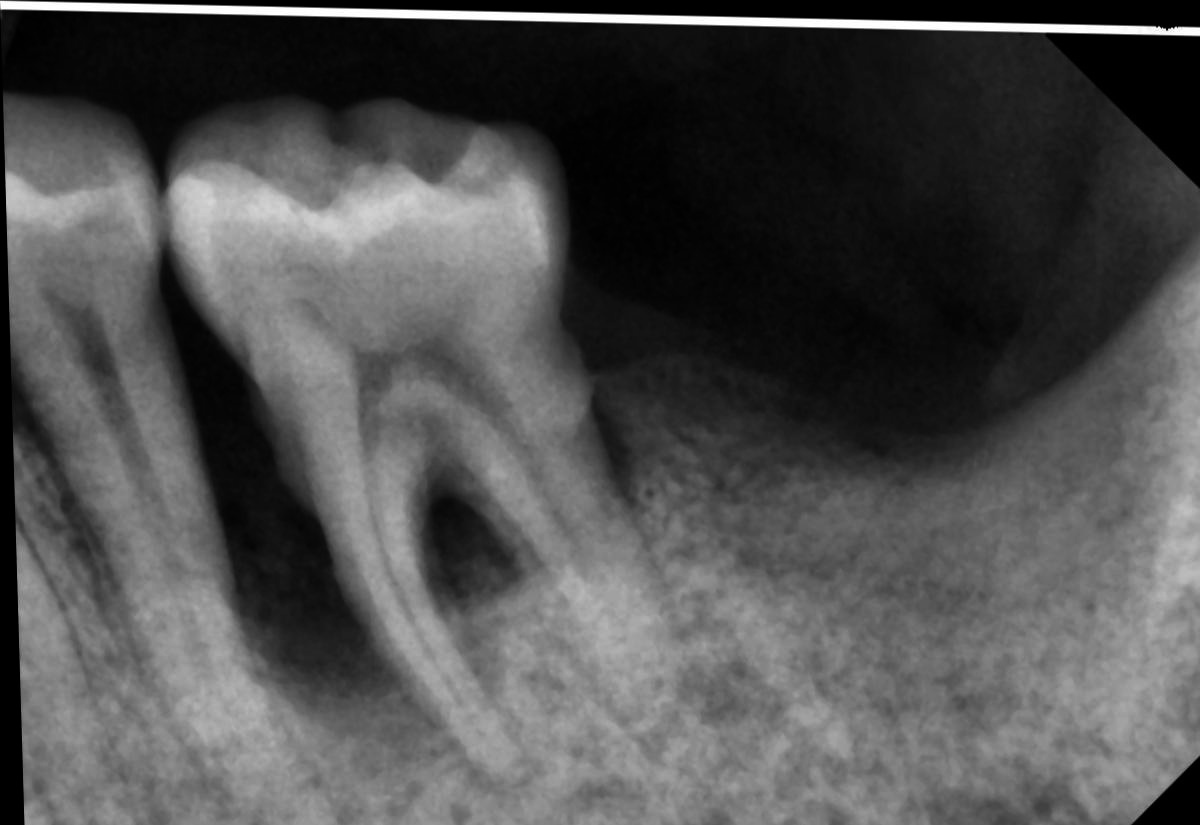Individual Tooth: (164, 98, 670, 771), (3, 94, 279, 784)
